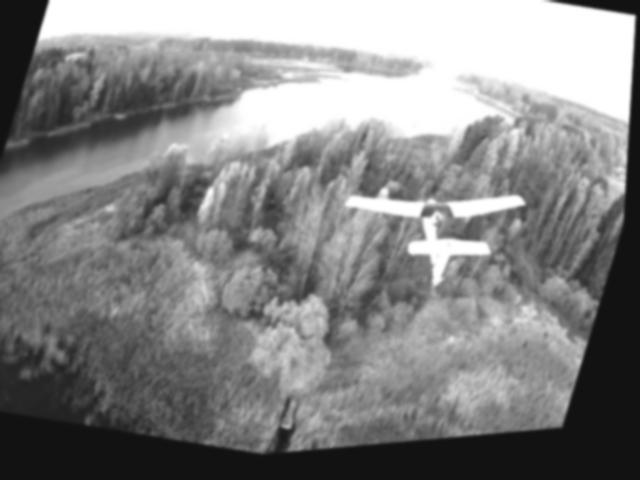hedef: (330, 158, 537, 321)
